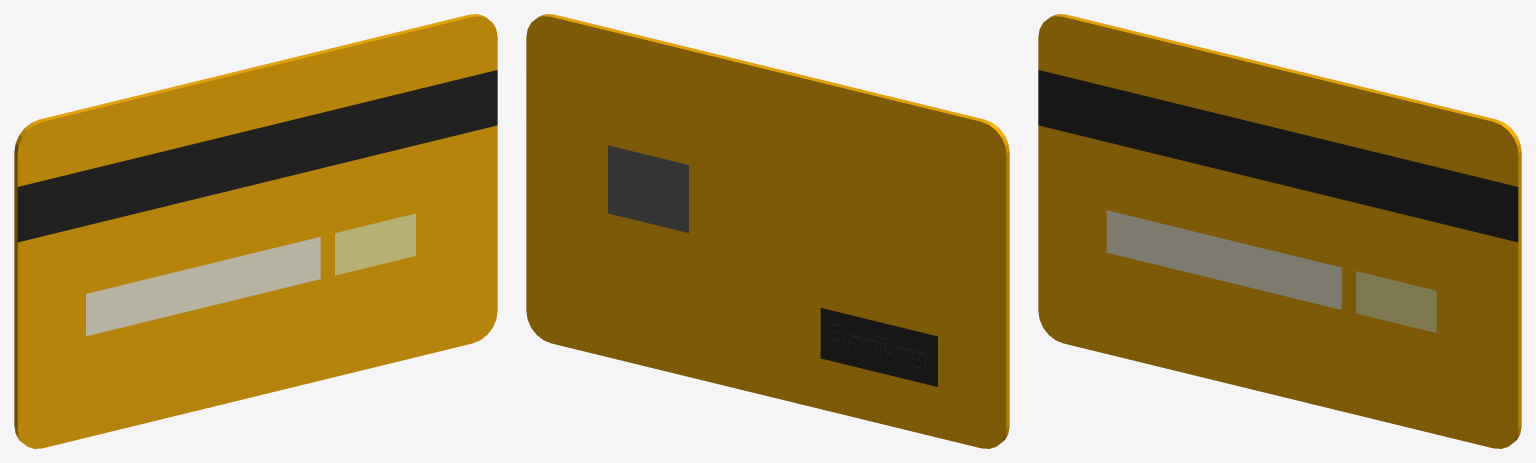
Rendered from credit_card.fbx.
3 renders of one model, left to right at view 1: azimuth 30°, elevation 25°; view 2: azimuth 150°, elevation 25°; view 3: azimuth 330°, elevation 25°, orthographic.
Visible parts, largest first — view 1: Plane.331; view 2: Plane.331; view 3: Plane.331.
Boxes of the visible parts, box(x1,y1,x2,y2) form: Plane.331: box(14, 14, 497, 448); Plane.331: box(526, 14, 1009, 448); Plane.331: box(1038, 14, 1521, 448).
Bounding box in the file's own units: 223 × 145 × 3.18.
1 material, 1 textured.
